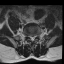CCS_normal: (31, 35, 33, 41)
LFS_stenosis: (34, 33, 36, 38)
LLS_normal: (33, 35, 34, 41)
RFS_stenosis: (28, 34, 30, 38)
RLS_normal: (30, 35, 31, 41)
